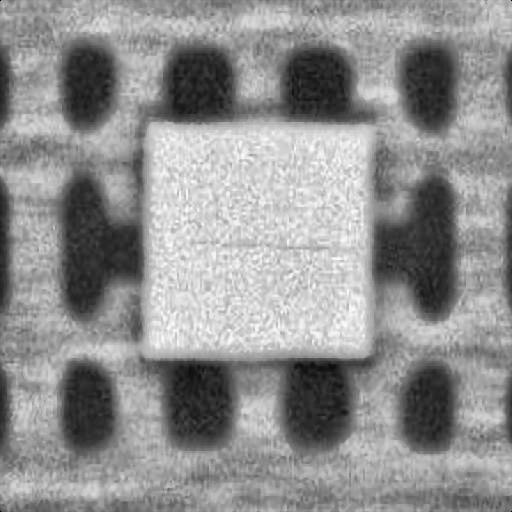DIE_CRACK: (287, 159, 512, 165)
